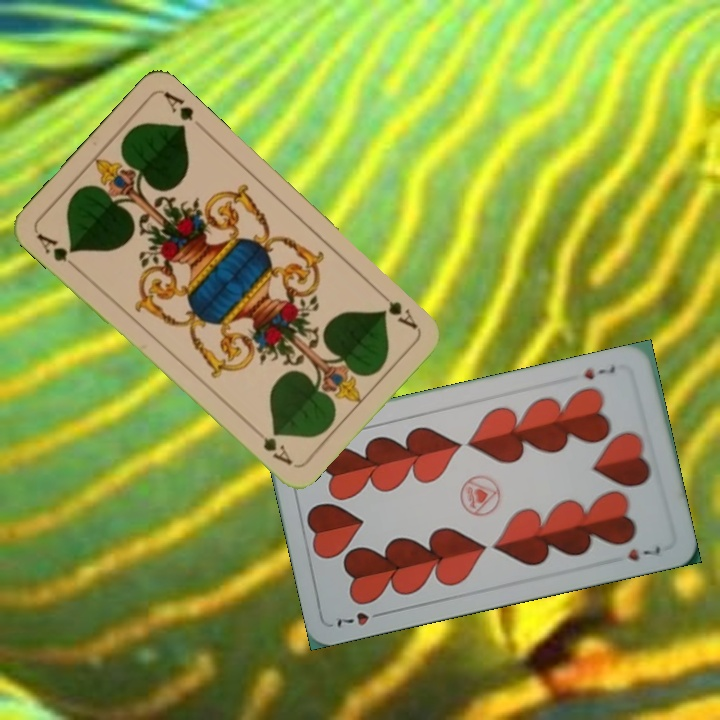GA: (374, 286, 421, 332), (33, 229, 81, 273)
H7: (332, 607, 389, 629), (580, 362, 618, 382)
